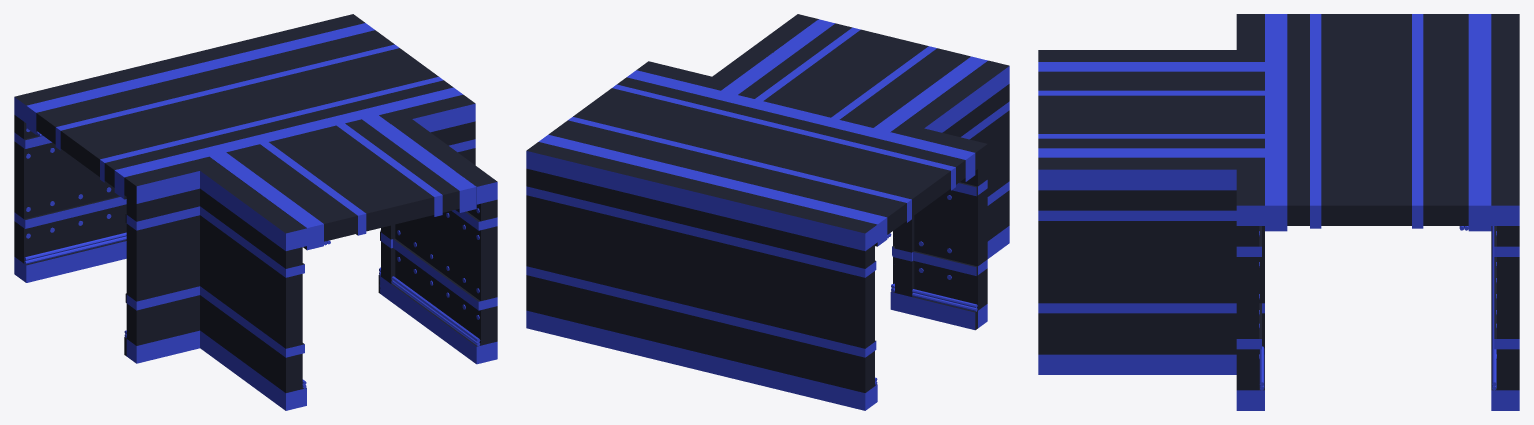
Rendered from T Junction Collection.fbx.
3 renders of one model, left to right at view 1: azimuth 30°, elevation 25°; view 2: azimuth 150°, elevation 25°; view 3: azimuth 270°, elevation 25°, orthographic. The views are drawn at different scales.
Parts seen in each view (by area): view 1: Tunnel_T_Junction.216, Tunnel_T_Junction, Tunnel_T_Junction.093, Tunnel_T_Junction.124, Tunnel_T_Junction.185, Tunnel_T_Junction.031, Tunnel_T_Junction.155, Tunnel_T_Junction.170, Tunnel_T_Junction.062, Tunnel_T_Junction.187, Tunnel_T_Junction.033, Tunnel_T_Junction.032; view 2: Tunnel_T_Junction.031, Tunnel_T_Junction.062, Tunnel_T_Junction.093, Tunnel_T_Junction, Tunnel_T_Junction.124, Tunnel_T_Junction.155, Tunnel_T_Junction.216, Tunnel_T_Junction.185, Tunnel_T_Junction.170; view 3: Tunnel_T_Junction.185, Tunnel_T_Junction.124, Tunnel_T_Junction, Tunnel_T_Junction.093, Tunnel_T_Junction.062, Tunnel_T_Junction.170, Tunnel_T_Junction.031, Tunnel_T_Junction.216, Tunnel_T_Junction.155.
Boxes of the visible parts, left/top/right/bottom form: Tunnel_T_Junction.216: left=188, top=157, right=306, bottom=410; Tunnel_T_Junction: left=209, top=115, right=476, bottom=250; Tunnel_T_Junction.093: left=26, top=64, right=293, bottom=199; Tunnel_T_Junction.124: left=196, top=23, right=462, bottom=135; Tunnel_T_Junction.185: left=379, top=112, right=497, bottom=364; Tunnel_T_Junction.031: left=14, top=55, right=195, bottom=282; Tunnel_T_Junction.155: left=124, top=161, right=220, bottom=363; Tunnel_T_Junction.170: left=378, top=94, right=475, bottom=301; Tunnel_T_Junction.062: left=184, top=14, right=364, bottom=64; Tunnel_T_Junction.187: left=379, top=267, right=480, bottom=342; Tunnel_T_Junction.033: left=24, top=232, right=126, bottom=260; Tunnel_T_Junction.032: left=24, top=236, right=126, bottom=264; Tunnel_T_Junction.031: left=695, top=183, right=877, bottom=410; Tunnel_T_Junction.062: left=526, top=142, right=707, bottom=369; Tunnel_T_Junction.093: left=708, top=111, right=975, bottom=246; Tunnel_T_Junction: left=721, top=19, right=987, bottom=132; Tunnel_T_Junction.124: left=538, top=70, right=805, bottom=182; Tunnel_T_Junction.155: left=891, top=124, right=987, bottom=330; Tunnel_T_Junction.216: left=890, top=60, right=1009, bottom=314; Tunnel_T_Junction.185: left=700, top=14, right=818, bottom=86; Tunnel_T_Junction.170: left=636, top=61, right=732, bottom=90; Tunnel_T_Junction.185: left=1038, top=157, right=1264, bottom=374; Tunnel_T_Junction.124: left=1265, top=109, right=1491, bottom=231; Tunnel_T_Junction: left=1038, top=62, right=1264, bottom=157; Tunnel_T_Junction.093: left=1265, top=14, right=1491, bottom=109; Tunnel_T_Junction.062: left=1491, top=109, right=1519, bottom=410; Tunnel_T_Junction.170: left=1236, top=157, right=1264, bottom=410; Tunnel_T_Junction.031: left=1491, top=14, right=1519, bottom=294; Tunnel_T_Junction.216: left=1038, top=50, right=1264, bottom=61; Tunnel_T_Junction.155: left=1236, top=14, right=1264, bottom=61.
Size of the model in its own units: 400 by 200 by 425.
